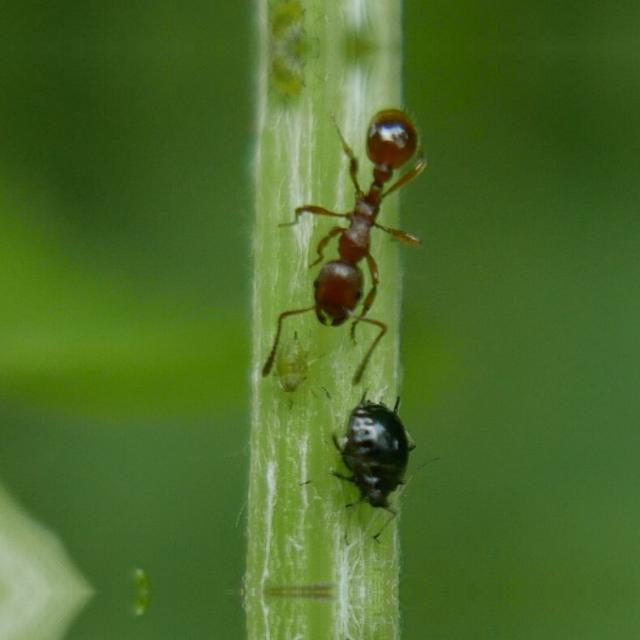Myrmica: (262, 86, 448, 354)
